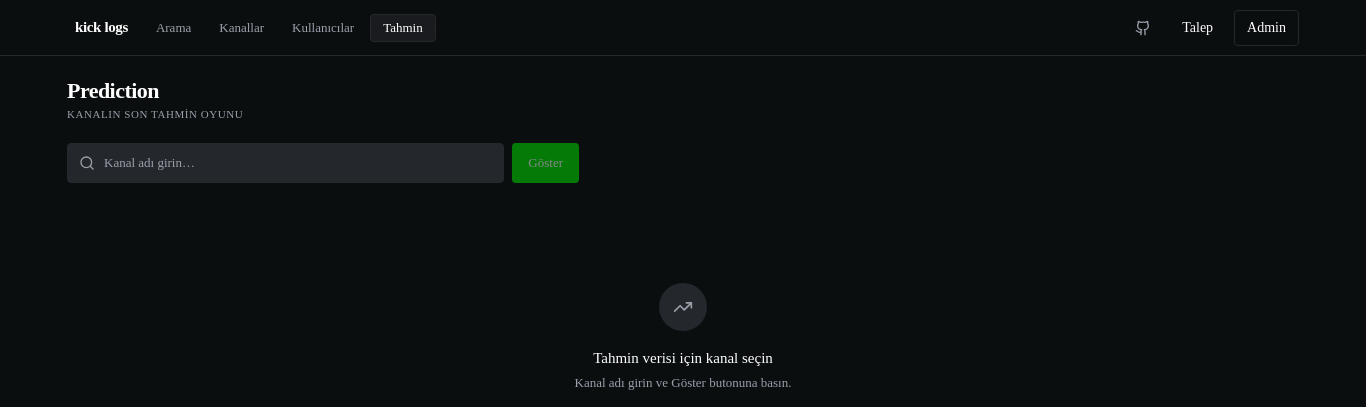
Test: PredictionSearchPage › disables submit until the query has at least 2 characters
Expected: the button "Göster" is disabled, [512,142,579,182]
Type "n" into the search field labelled "Kanal adı girin…" at coordinates (286, 162), box [67,142,504,182]
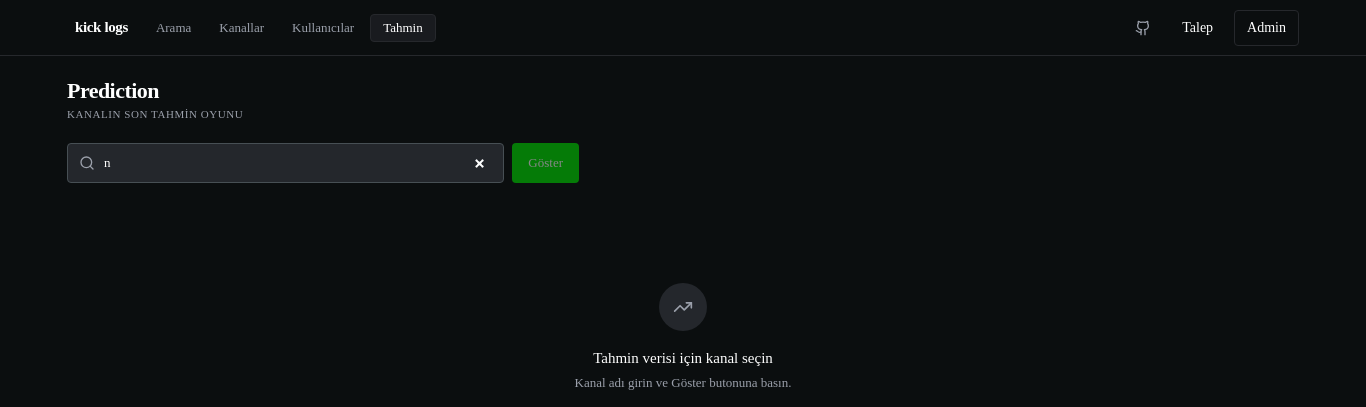
Expected: the button "Göster" is disabled, [512,142,579,182]
Type "b" into the search field named "Kanal adı" at coordinates (286, 162), box [67,142,504,182]
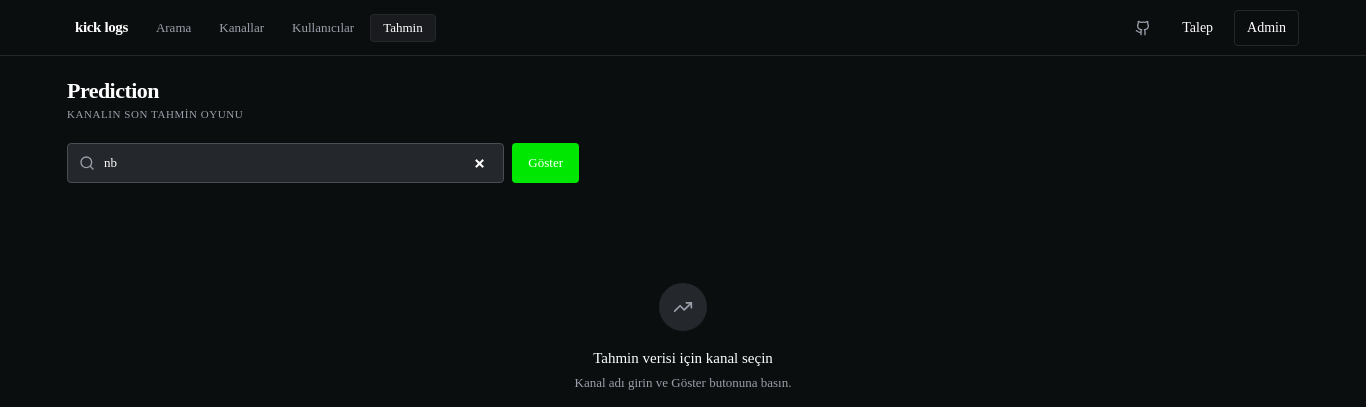
Expected: the button "Göster" is enabled, [512,142,579,182]
